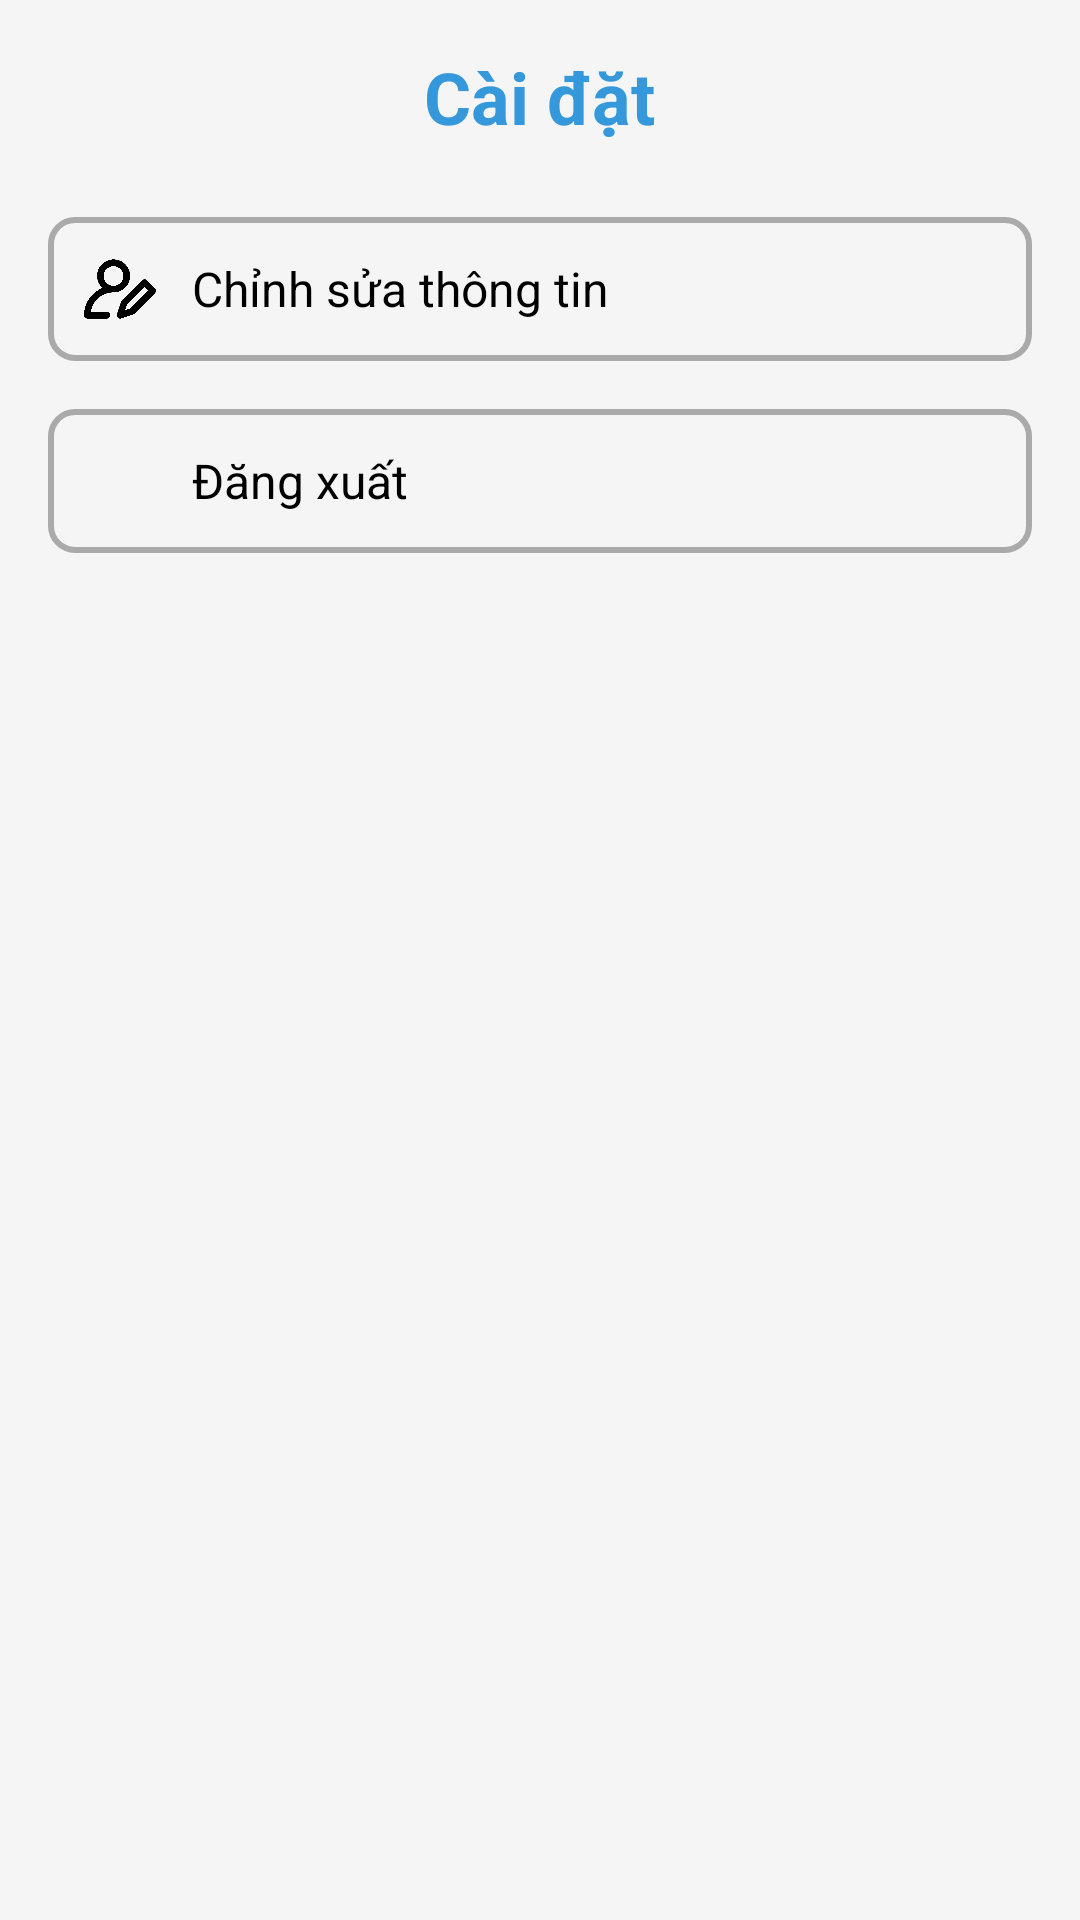

Where icons sit on this 1080x1920 app screen, as BBox(x1, y1, x2, y2):
edit info: BBox(84, 259, 156, 319)
